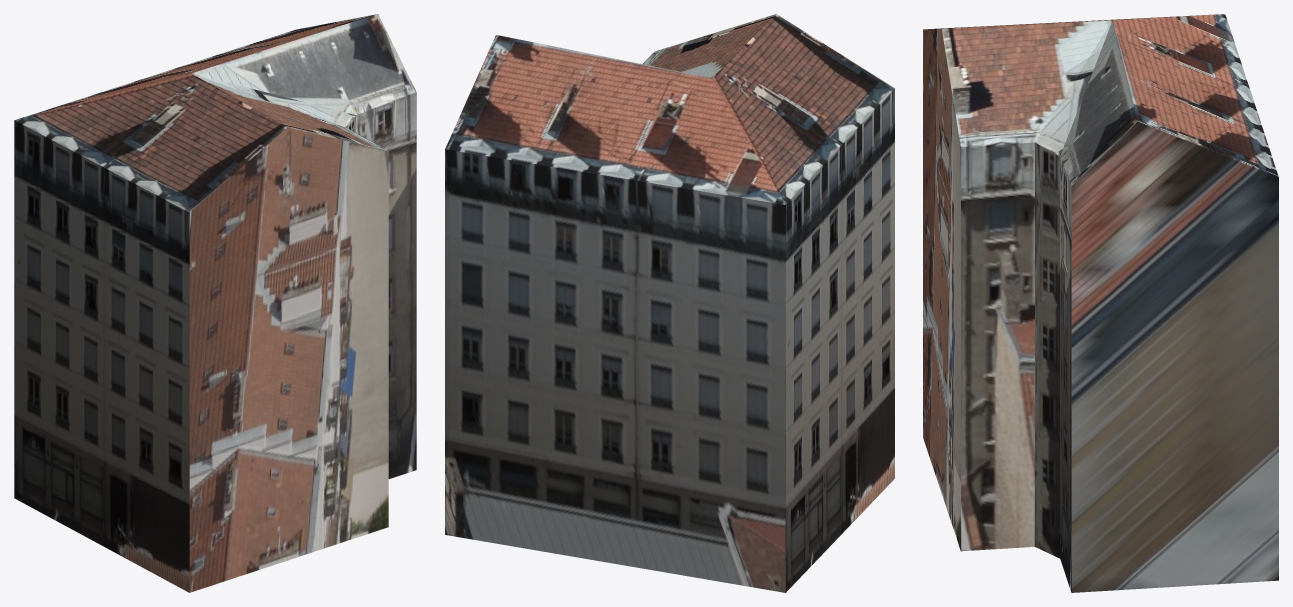
3 renders of one model, left to right at view 1: azimuth 30°, elevation 25°; view 2: azimuth 150°, elevation 25°; view 3: azimuth 270°, elevation 25°, orthographic. The views are drawn at different scales.
Parts seen in each view (by area): view 1: Z_UP; view 2: Z_UP; view 3: Z_UP.
Part boxes in pixels (x1,y1,x2,y2): Z_UP: (14,14,416,592); Z_UP: (445,14,894,592); Z_UP: (923,14,1278,592).
Size of the model in its own units: 21 by 26.43 by 18.24.
2 materials, 1 textured.
